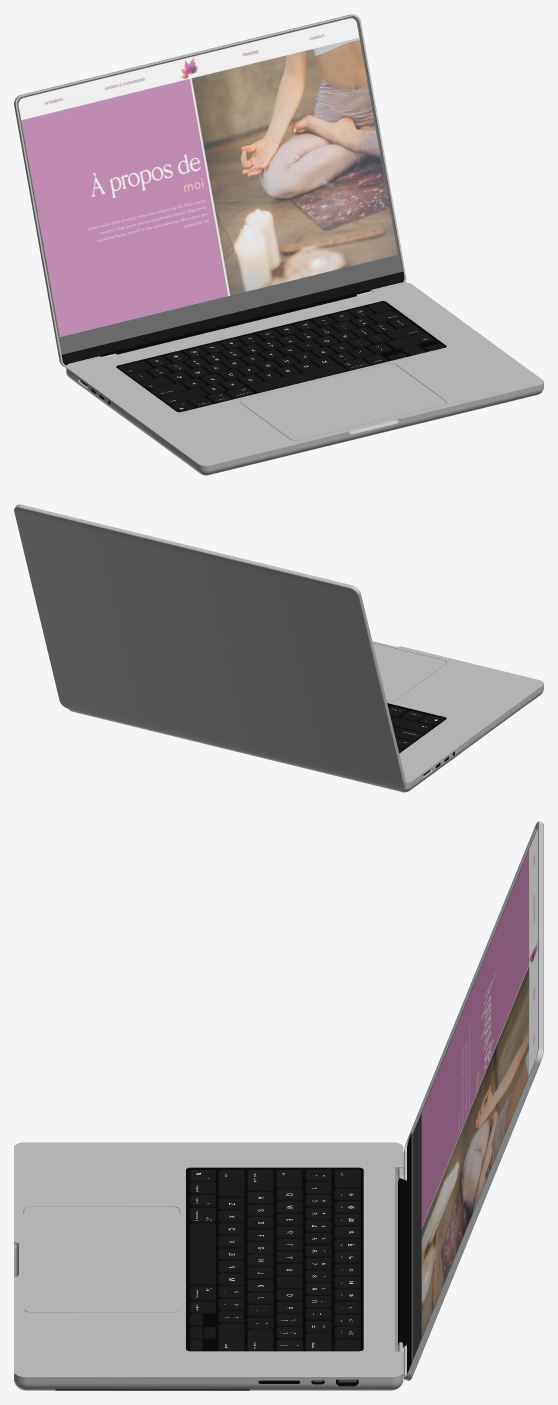
Rendered from macbookYogaEverywhere-transformed.glb.
3 views of the same model, one above another, from view 1: azimuth 30°, elevation 25°; view 2: azimuth 150°, elevation 25°; view 3: azimuth 270°, elevation 25° (orthographic). The views are drawn at different scales.
Parts seen in each view (by area): view 1: Cube.016_2, Cube_5; view 2: Cube.016_2, Cube_5; view 3: Cube_5, Cube.016_2.
Part boxes in pixels (left/top/right/bottom): Cube.016_2: left=14, top=14, right=406, bottom=367; Cube_5: left=66, top=282, right=543, bottom=475; Cube.016_2: left=14, top=504, right=406, bottom=789; Cube_5: left=68, top=641, right=543, bottom=792; Cube_5: left=14, top=1142, right=403, bottom=1390; Cube.016_2: left=398, top=821, right=543, bottom=1380.
Bounding box in the file's own units: 2.99 × 2.04 × 2.85.
Materials: 14 (1 with a texture image).
